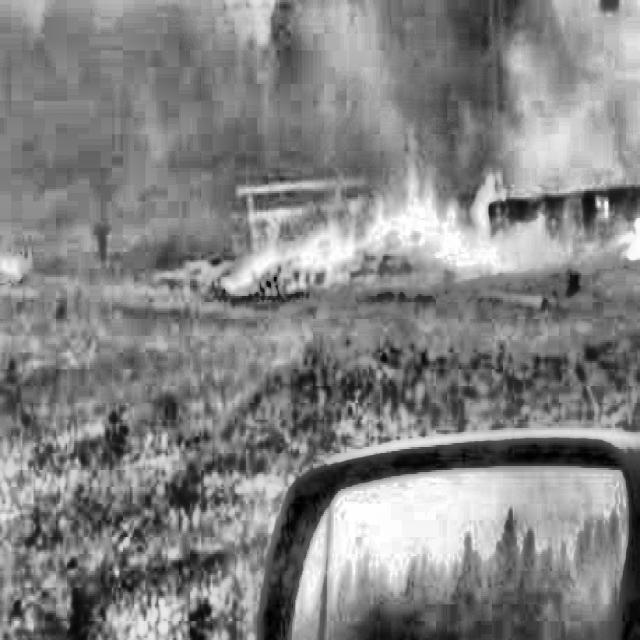fire: (248, 174, 572, 374)
